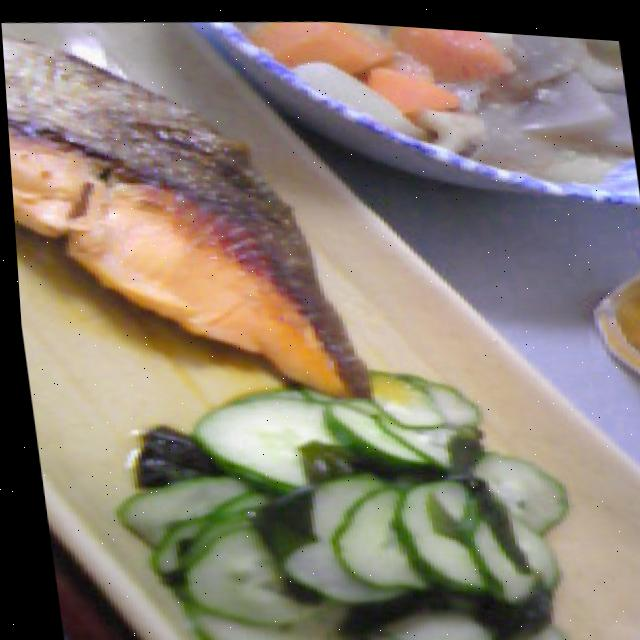熟制海鲜: (1, 16, 375, 428)
